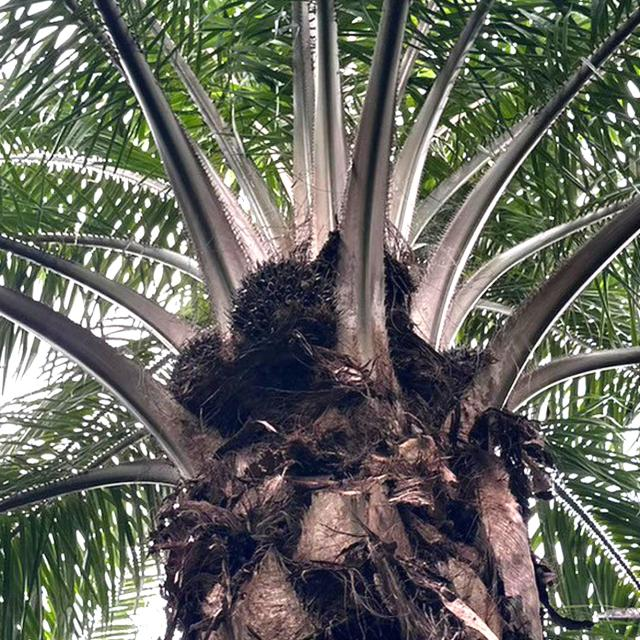unripe: (226, 253, 339, 352)
